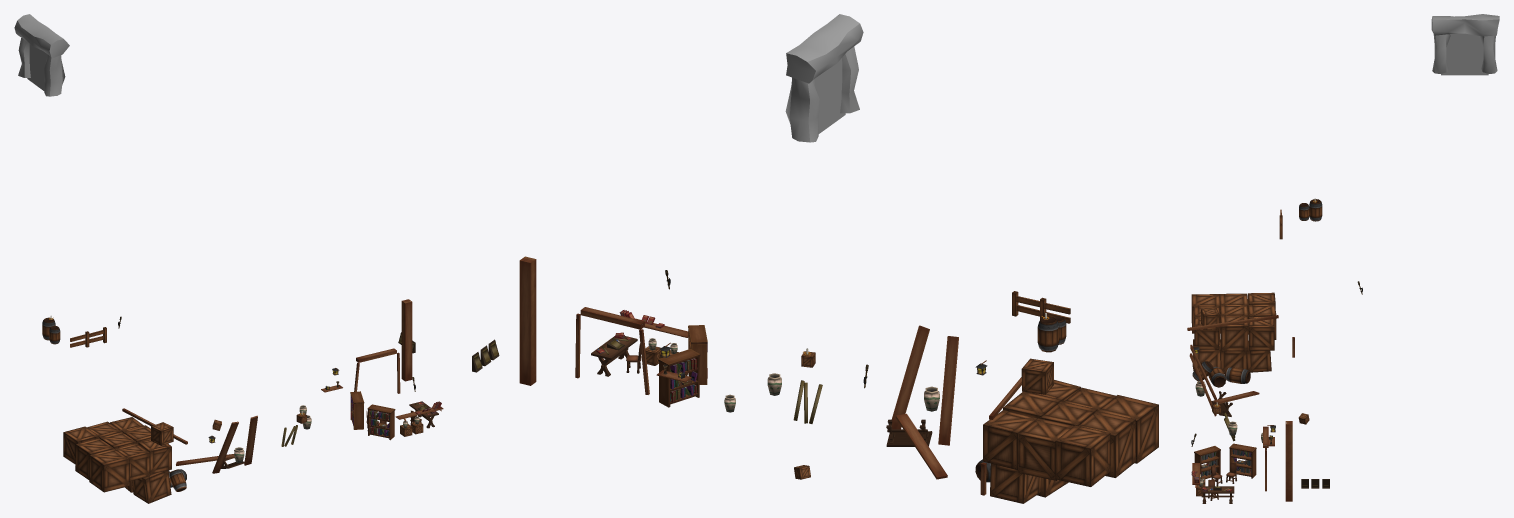
File: Geometry Controller_0.obj
The picture shows the model from 3 angles, left to right: view 1: azimuth 30°, elevation 25°; view 2: azimuth 150°, elevation 25°; view 3: azimuth 270°, elevation 25°; orthographic projection. The views are drawn at different scales.
Visible parts, largest first — view 1: Box, Wooden Plate, Ortoedric Frame Door, Book Shelf, Wooden Barrel, Ortoedric Half Door; view 2: Box, Wooden Plate, Ortoedric Frame Door, Book Shelf, Ortoedric Half Door, Wooden Barrel, Vessel, Wooden Table, Wooden Fence; view 3: Box, Ortoedric Frame Door, Wooden Plate, Ortoedric Half Door, Book Shelf, Wooden Barrel, Wooden Chair, Wooden Table.
Part boxes in pixels (bbox=[...]): Box: bbox=[63, 413, 423, 503]; Wooden Plate: bbox=[122, 299, 443, 473]; Ortoedric Frame Door: bbox=[14, 14, 69, 96]; Book Shelf: bbox=[350, 391, 395, 440]; Wooden Barrel: bbox=[42, 317, 186, 491]; Ortoedric Half Door: bbox=[27, 44, 47, 90]; Box: bbox=[645, 346, 1158, 503]; Wooden Plate: bbox=[519, 256, 1021, 495]; Ortoedric Frame Door: bbox=[785, 14, 863, 142]; Book Shelf: bbox=[658, 325, 707, 407]; Ortoedric Half Door: bbox=[814, 58, 845, 133]; Wooden Barrel: bbox=[975, 316, 1066, 482]; Vessel: bbox=[648, 338, 939, 412]; Wooden Table: bbox=[591, 332, 637, 376]; Wooden Fence: bbox=[1012, 291, 1070, 323]; Box: bbox=[1191, 292, 1309, 496]; Ortoedric Frame Door: bbox=[1431, 14, 1499, 73]; Wooden Plate: bbox=[1187, 315, 1294, 501]; Ortoedric Half Door: bbox=[1441, 33, 1488, 75]; Book Shelf: bbox=[1194, 443, 1256, 478]; Wooden Barrel: bbox=[1192, 199, 1322, 387]; Wooden Chair: bbox=[1208, 462, 1236, 500]; Wooden Table: bbox=[1201, 486, 1234, 503].
Bounding box in the file's own units: 27.22 × 26.04 × 20.27.
Materials: 14 (12 with a texture image).
